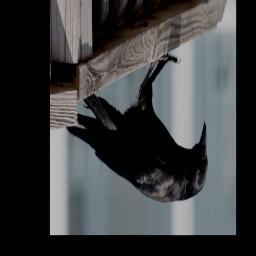Crow: (65, 54, 208, 204)
